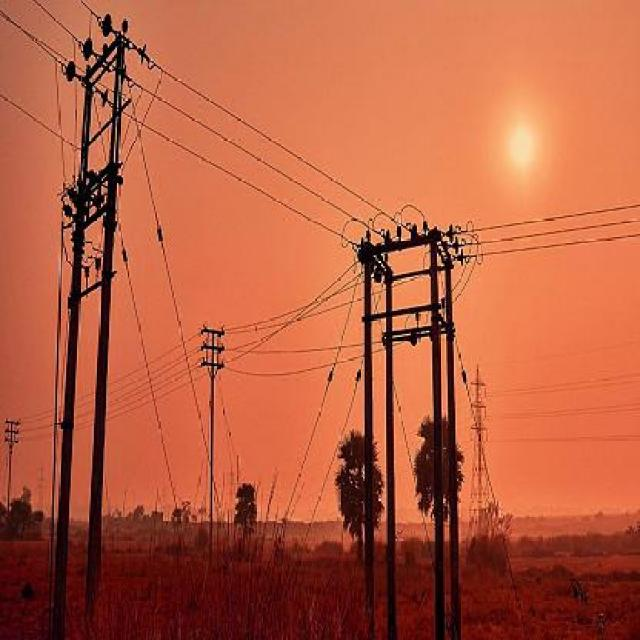pole: (40, 17, 157, 634), (352, 201, 476, 634), (189, 314, 231, 524)
